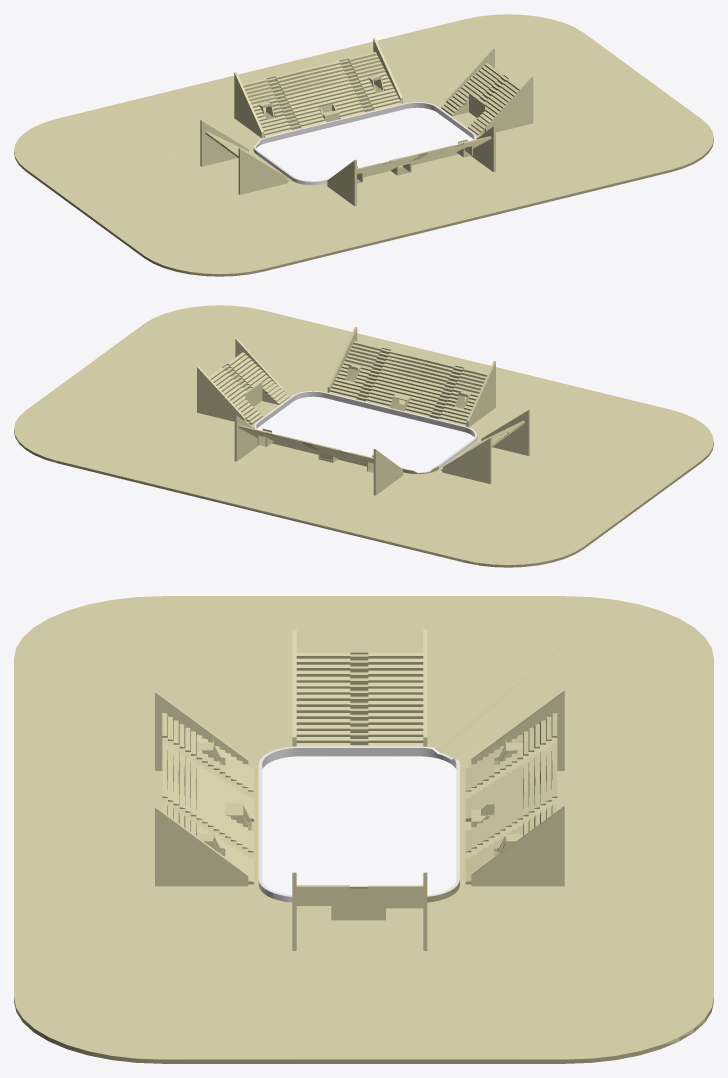
File: Stadium.gltf
3 renders of one model, top to bottom at view 1: azimuth 30°, elevation 25°; view 2: azimuth 150°, elevation 25°; view 3: azimuth 270°, elevation 25°, orthographic. The views are drawn at different scales.
Visible parts, largest first — view 1: Seat Base.007; view 2: Seat Base.007; view 3: Seat Base.007.
Part boxes in pixels (bbox=[...]): Seat Base.007: bbox=[14, 14, 713, 276]; Seat Base.007: bbox=[14, 305, 713, 567]; Seat Base.007: bbox=[14, 596, 713, 1063].
Size of the model in its own units: 154 by 12.93 by 98.65.
1 material, 1 textured.
